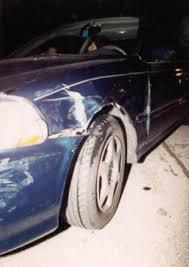fender-dent: (34, 59, 159, 127)
front-bumper-dent: (0, 143, 68, 249)
